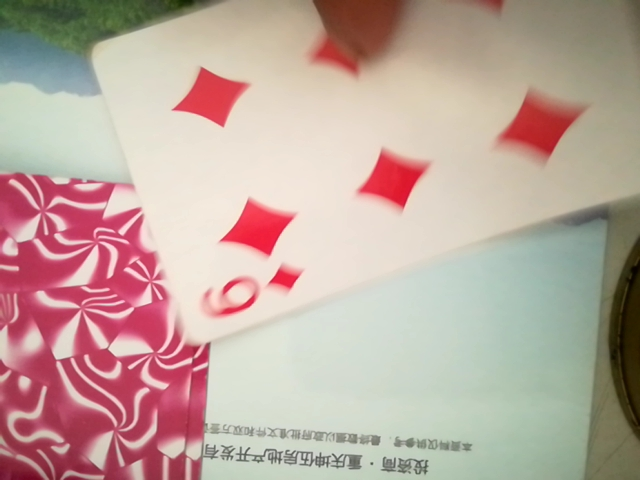fk 6: (111, 3, 640, 348)
